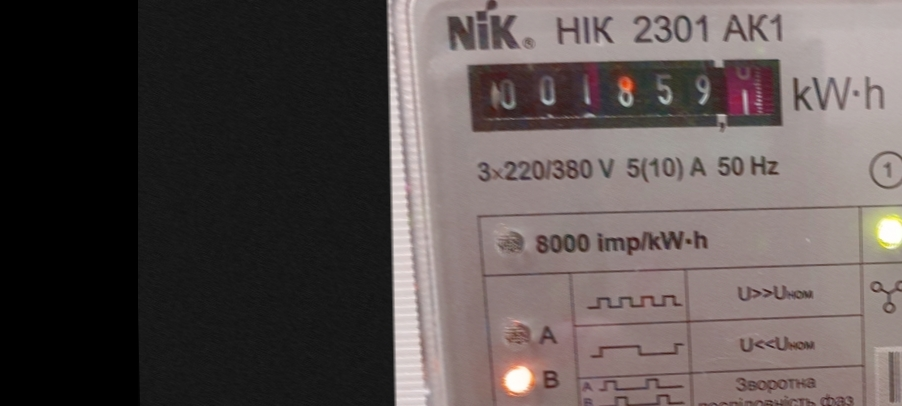0: (499, 76, 519, 112), (538, 73, 558, 107)
1: (582, 71, 594, 107), (740, 86, 753, 116)
5: (655, 71, 676, 107)
8: (616, 73, 637, 109)
9: (694, 72, 714, 107)
screen: (457, 46, 794, 143)
